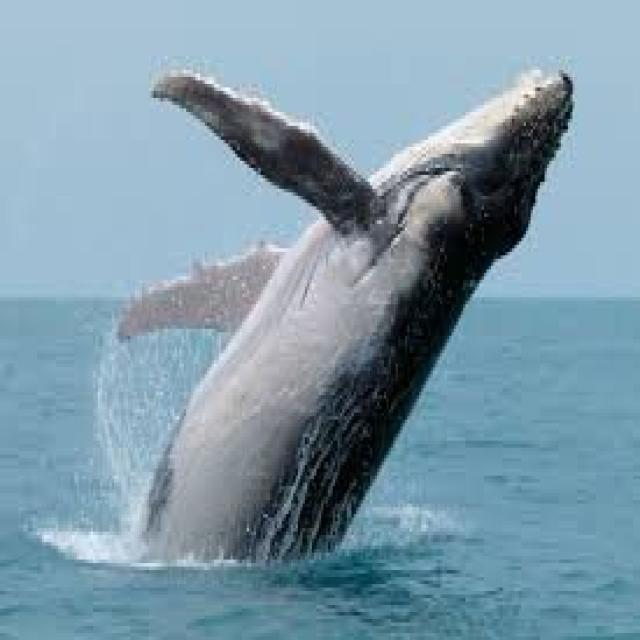whale: (119, 70, 576, 556)
